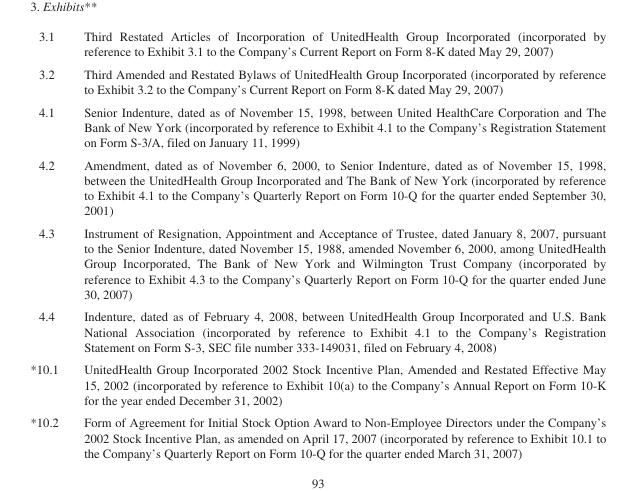table: (29, 28, 605, 459)
table column: (70, 28, 605, 459), (29, 28, 70, 459)
table row: (29, 221, 605, 304), (29, 153, 605, 221), (29, 100, 605, 153), (29, 304, 605, 357), (29, 357, 605, 410), (29, 410, 605, 459), (29, 62, 605, 100), (29, 28, 605, 62)
